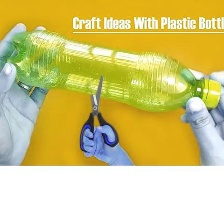bottle: (2, 27, 224, 119)
